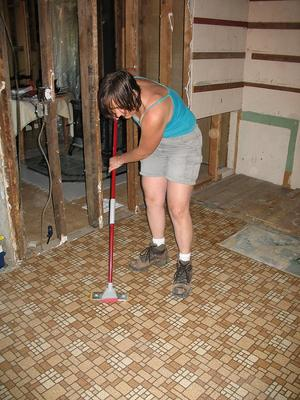person: (99, 68, 203, 302)
